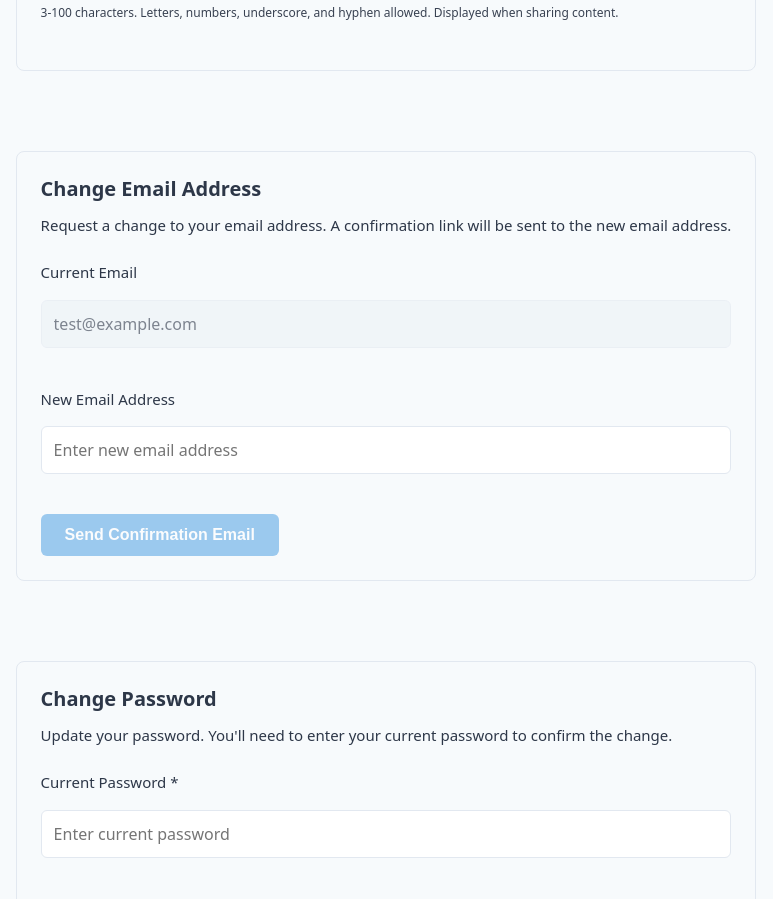
it: Account Management Integration Tests › should complete email change request workflow
This screenshot has width=773, height=899.
(page scrolled)
// Enter new email
Type "new@example.com" into the field labelled "New Email Address" at [386, 450], box [41,426,731,474]
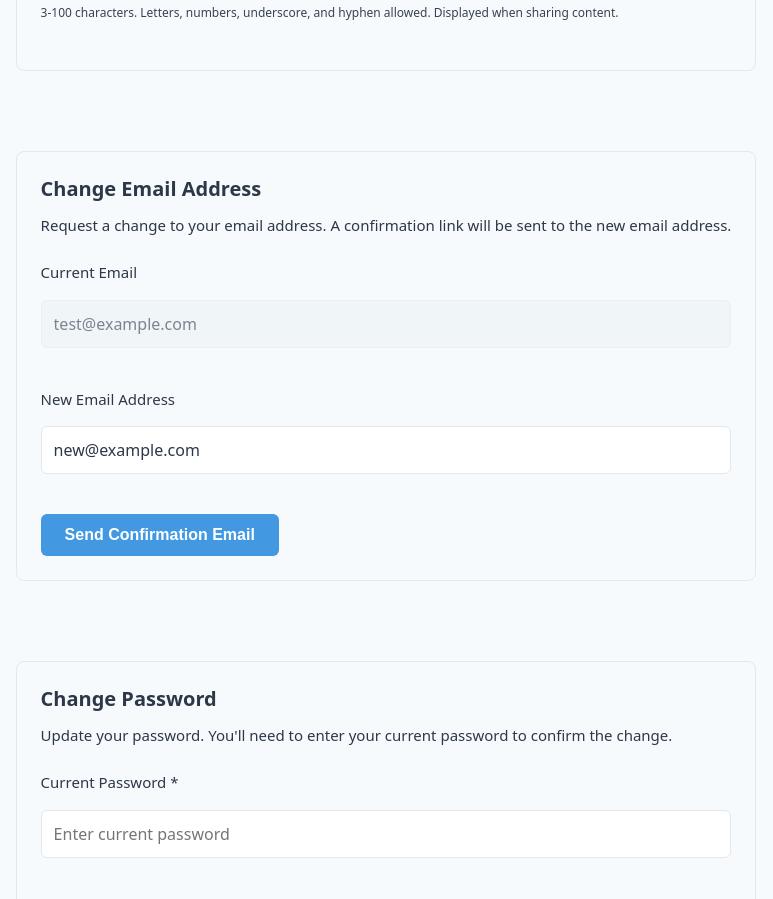
Click the button "Send Confirmation Email" at [160, 536], box [41,514,279,556]
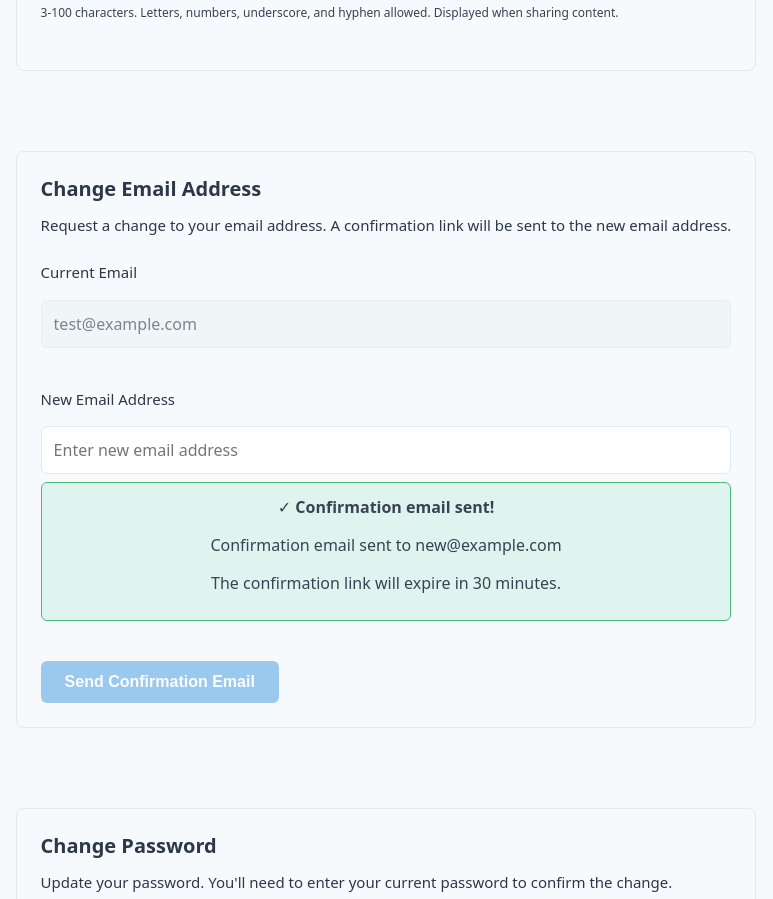
Now the message shows "Confirmation email sent", box [278,496,494,518]
